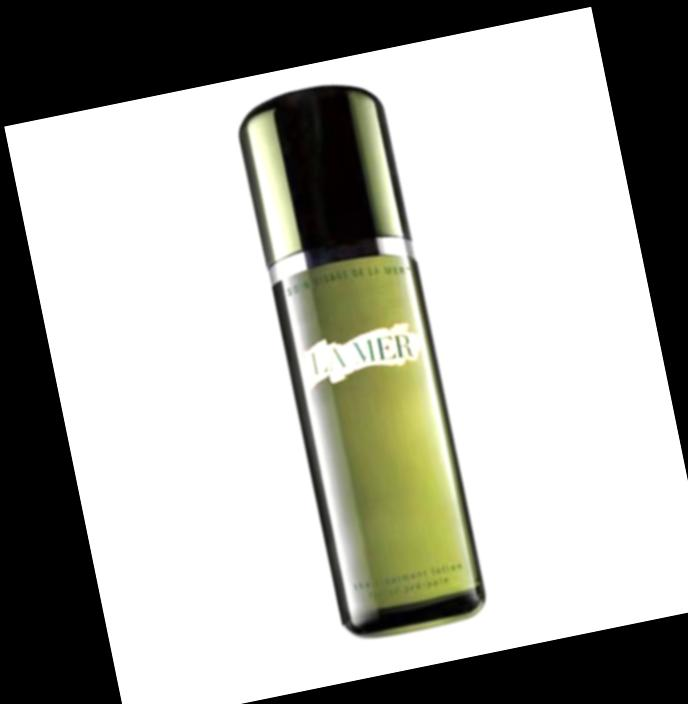cosmetic: (235, 79, 496, 641)
